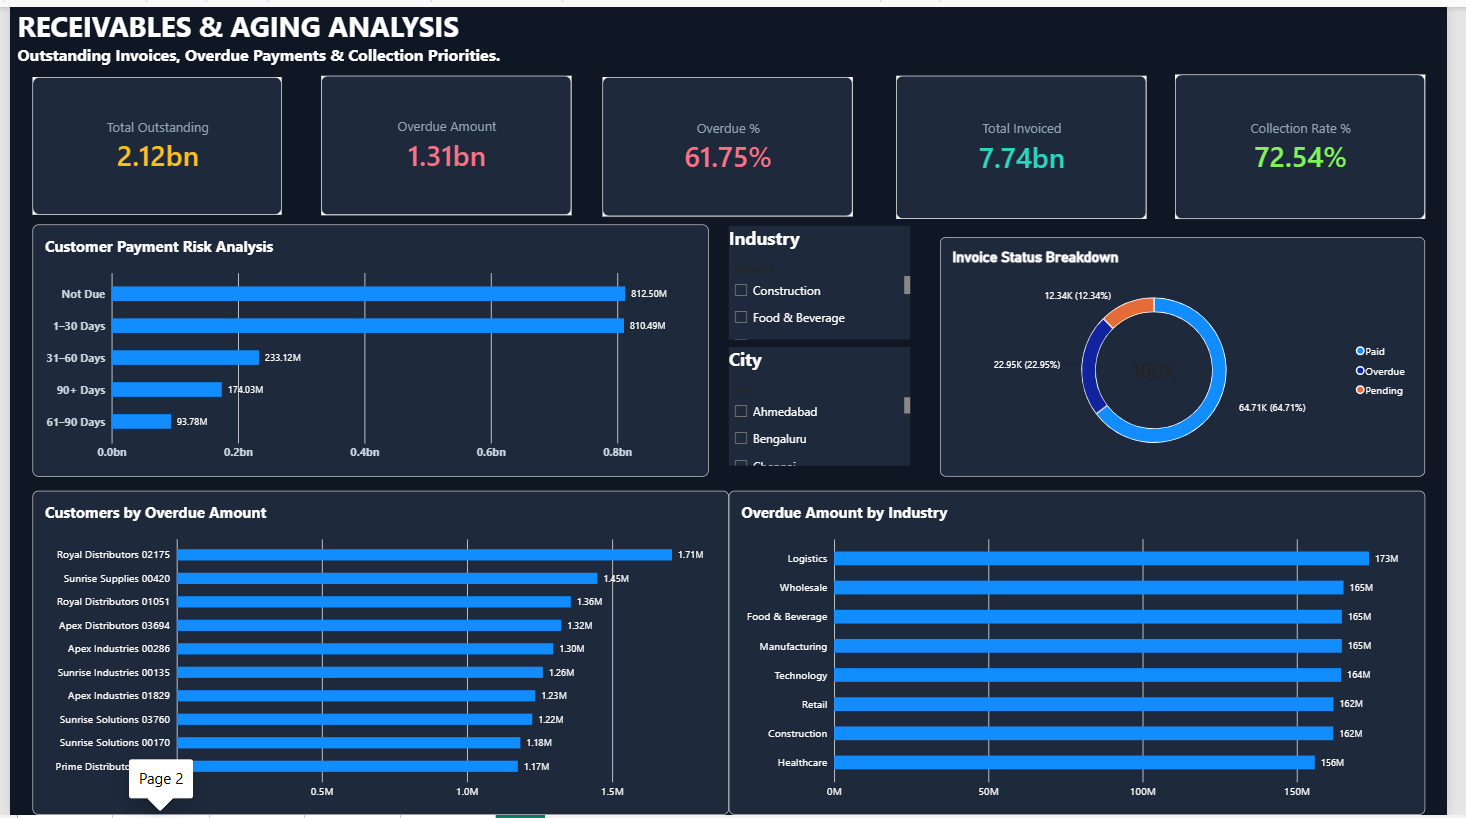

Layout of this report page (visuals, bound fields, positions):
{"tool":"powerbi","page":{"name":"Page 2","canvas":[1920,1080],"ordinal":1},"visuals":[{"type":"textbox","box":[10.3,0,1280.3,185.2],"z":0},{"type":"cardVisual","fields":{"Data":["sme_working_capital customers.Total Outstanding"]},"box":[30.4,93.5,333.9,184.3],"z":1000},{"type":"cardVisual","fields":{"Data":["sme_working_capital customers.Overdue Amount"]},"box":[415.2,91.3,334.8,187],"z":2000},{"type":"cardVisual","fields":{"Data":["Calendar.Overdue %"]},"box":[792,94,334.8,187],"z":3000},{"type":"cardVisual","fields":{"Data":["sme_working_capital customers.Total Invoiced"]},"box":[1184,92,334.8,191.3],"z":4000},{"type":"cardVisual","fields":{"Data":["sme_working_capital customers.Collection Rate %"]},"box":[1556,90,334.8,193.5],"z":5000},{"type":"clusteredBarChart","title":"Customer Payment Risk Analysis","fields":{"Category":["sme_working_capital vw_invoice_payment_summary.Aging Bucket"],"Y":["Sum(sme_working_capital vw_invoice_payment_summary.outstanding_amount)"]},"box":[30.4,291.3,902.8,336.6],"z":6000},{"type":"slicer","title":"City","fields":{"Values":["sme_working_capital customers.city"]},"box":[960,454,242,158],"z":7000},{"type":"slicer","title":"Industry","fields":{"Values":["sme_working_capital customers.industry"]},"box":[960,292,242,152],"z":8000},{"type":"clusteredBarChart","title":"Overdue Amount by Industry","fields":{"Category":["sme_working_capital customers.industry"],"Y":["sme_working_capital customers.Overdue by Industry"]},"box":[960.9,645.7,930.4,432.6],"z":9000},{"type":"clusteredBarChart","title":"Customers by Overdue Amount","fields":{"Category":["sme_working_capital customers.customer_name"],"Y":["sme_working_capital customers.Overdue by Industry"]},"box":[30,646,930.4,432.6],"z":9001},{"type":"donutChart","title":"Invoice Status Breakdown","fields":{"Category":["sme_working_capital vw_invoice_payment_summary.Invoice Status"],"Y":["Count(sme_working_capital vw_invoice_payment_summary.invoice_id)"]},"box":[1242,308,648,320],"z":9002}]}

Visuals, with their boxes in screenshot pixels (x1, y1, x2, y2), scaled from the page's 1920x1080 canvas onto the 1466x818 screenshot:
textbox: x1=8 y1=0 x2=985 y2=140
cardVisual - sme_working_capital customers.Total Outstanding: x1=23 y1=71 x2=278 y2=210
cardVisual - sme_working_capital customers.Overdue Amount: x1=317 y1=69 x2=573 y2=211
cardVisual - Calendar.Overdue %: x1=605 y1=71 x2=860 y2=213
cardVisual - sme_working_capital customers.Total Invoiced: x1=904 y1=70 x2=1160 y2=215
cardVisual - sme_working_capital customers.Collection Rate %: x1=1188 y1=68 x2=1444 y2=215
"Customer Payment Risk Analysis" clusteredBarChart: x1=23 y1=221 x2=713 y2=476
"City" slicer: x1=733 y1=344 x2=918 y2=464
"Industry" slicer: x1=733 y1=221 x2=918 y2=336
"Overdue Amount by Industry" clusteredBarChart: x1=734 y1=489 x2=1444 y2=817
"Customers by Overdue Amount" clusteredBarChart: x1=23 y1=489 x2=733 y2=817
"Invoice Status Breakdown" donutChart: x1=948 y1=233 x2=1443 y2=476
